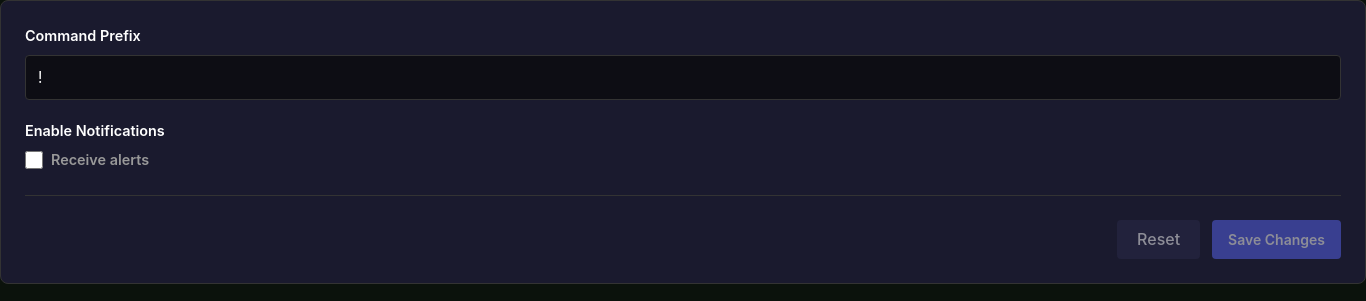
Frontend Components (7.3) › SettingsForm › should reset values when Reset is clicked
The width and height of the screenshot is (1366, 301).
Step 1. Type "?" into the field with placeholder "!" → (683, 77), box [25,55,1341,100]
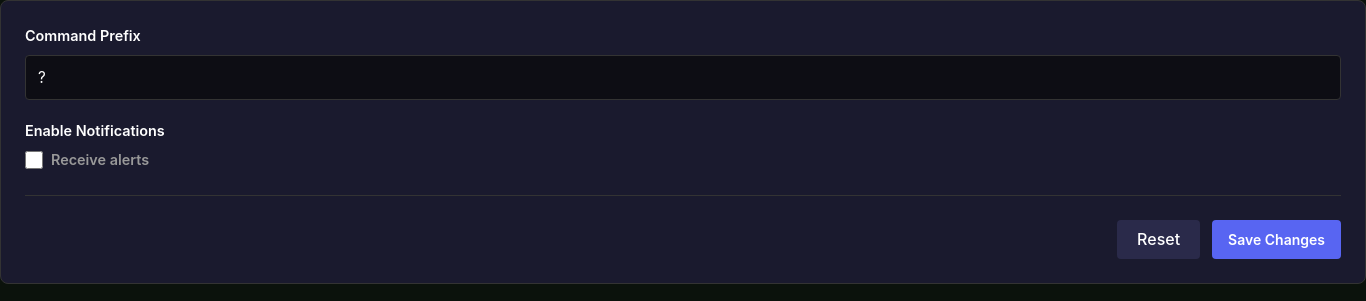
Step 2. Click the button "Reset" → (1159, 239), box [1117,220,1200,259]
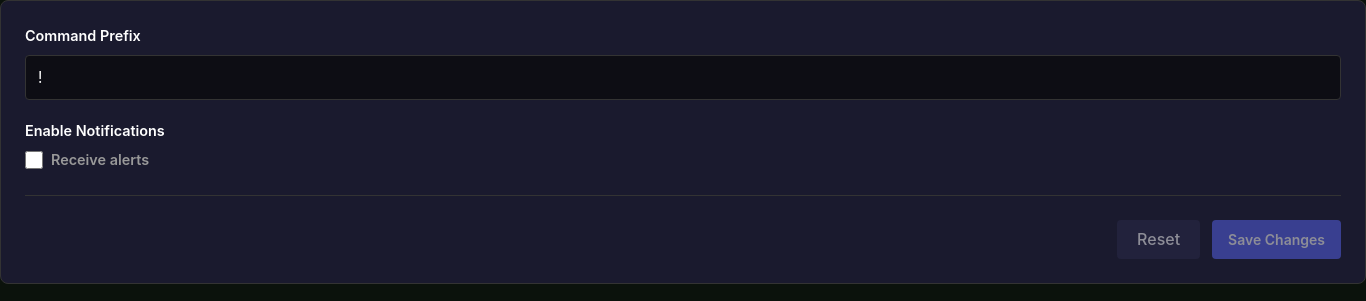
Now the field with placeholder "!" holds "!", box [25,55,1341,100]
